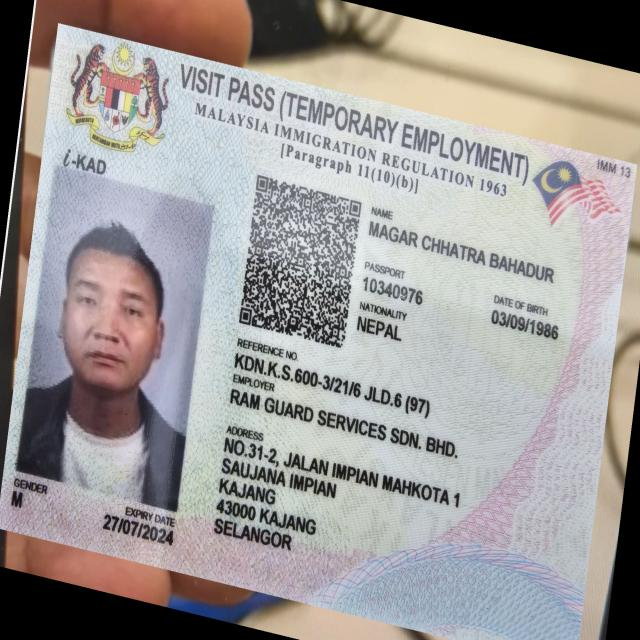ikad-temp: (1, 21, 637, 638)
